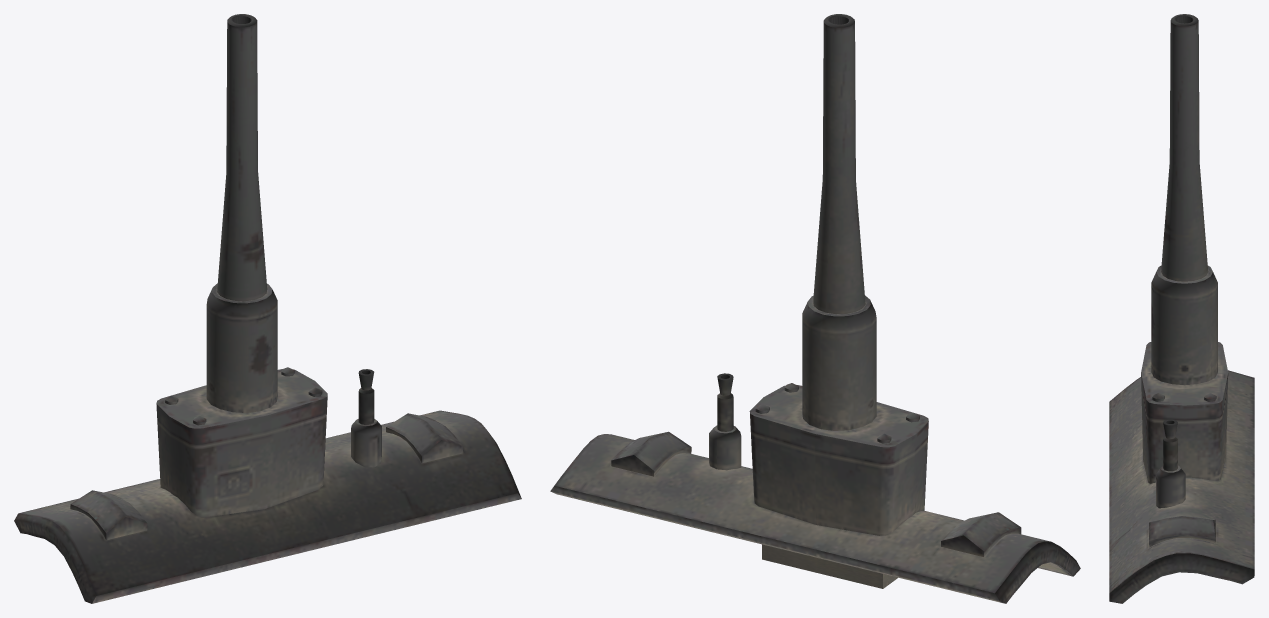
The model's file is Gun_03.glb.
The picture shows the model from 3 angles, left to right: view 1: azimuth 30°, elevation 25°; view 2: azimuth 150°, elevation 25°; view 3: azimuth 270°, elevation 25°; orthographic projection. The views are drawn at different scales.
Parts seen in each view (by area): view 1: set_0_group_0; view 2: set_0_group_0; view 3: set_0_group_0.
Part boxes in pixels (x1,y1,x2,y2): set_0_group_0: (14, 14, 521, 603); set_0_group_0: (550, 14, 1080, 603); set_0_group_0: (1109, 14, 1254, 603).
Bounding box in the file's own units: 1.34 × 1.53 × 0.4194.
1 material, 1 textured.
